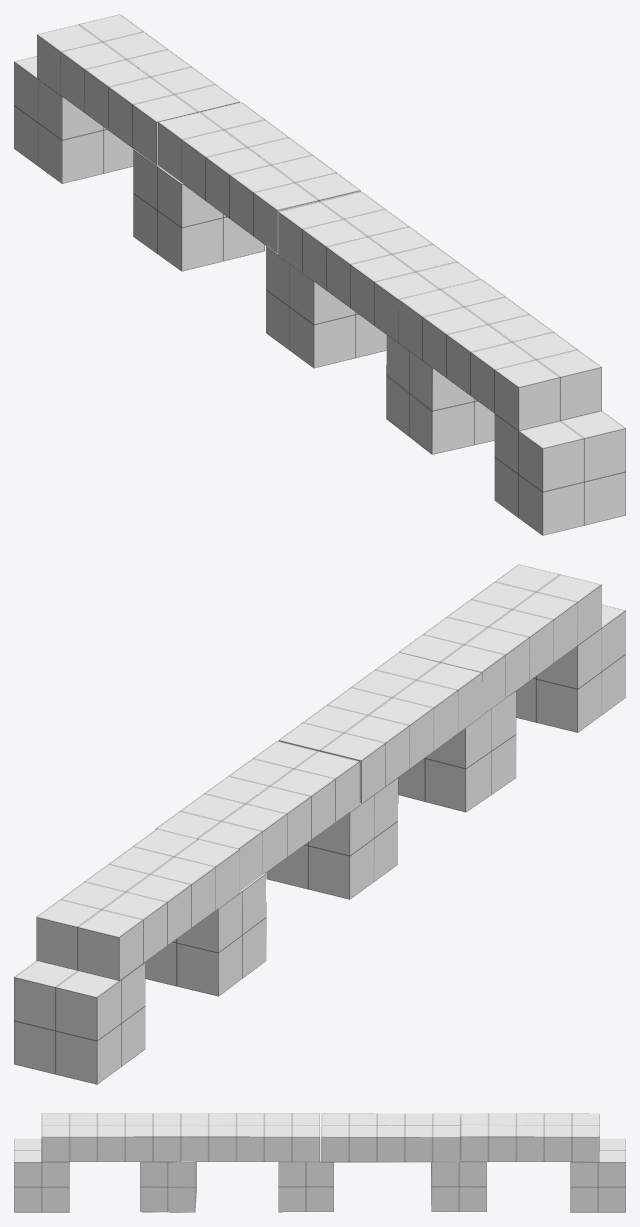
3 views of the same model, one above another, from view 1: azimuth 30°, elevation 25°; view 2: azimuth 150°, elevation 25°; view 3: azimuth 270°, elevation 25° (orthographic). The views are drawn at different scales.
Visible parts, largest first — view 1: GridPlank_0:3, GridPlank_0, GridPlank_0:1, GridPlank_0:2, Plane/BasicEnvironment/StartCube-1, GridCube_0:2, Plane/BasicEnvironment/StartCube-2, GridCube_0, GridCube_0:1; view 2: GridPlank_0:1, GridPlank_0:2, GridPlank_0:3, GridPlank_0, Plane/BasicEnvironment/StartCube-2, GridCube_0, GridCube_0:2, Plane/BasicEnvironment/StartCube-1, GridCube_0:1; view 3: GridPlank_0, GridPlank_0:1, GridPlank_0:3, GridPlank_0:2, Plane/BasicEnvironment/StartCube-1, Plane/BasicEnvironment/StartCube-2, GridCube_0:1, GridCube_0, GridCube_0:2.
Part boxes in pixels (<box>): GridPlank_0:3: <box>398,279,601,430</box>; GridPlank_0: <box>158,102,360,253</box>; GridPlank_0:1: <box>37,14,239,165</box>; GridPlank_0:2: <box>278,191,480,343</box>; Plane/BasicEnvironment/StartCube-1: <box>494,411,625,535</box>; GridCube_0:2: <box>133,149,264,271</box>; Plane/BasicEnvironment/StartCube-2: <box>14,56,133,183</box>; GridCube_0: <box>266,246,386,368</box>; GridCube_0:1: <box>386,335,494,454</box>; GridPlank_0:1: <box>36,829,239,980</box>; GridPlank_0:2: <box>278,652,482,803</box>; GridPlank_0:3: <box>399,564,601,715</box>; GridPlank_0: <box>155,741,359,890</box>; Plane/BasicEnvironment/StartCube-2: <box>14,960,145,1084</box>; GridCube_0: <box>266,777,398,899</box>; GridCube_0:2: <box>145,873,266,996</box>; Plane/BasicEnvironment/StartCube-1: <box>516,604,625,732</box>; GridCube_0:1: <box>398,691,516,812</box>; GridPlank_0: <box>321,1113,460,1162</box>; GridPlank_0:1: <box>460,1113,599,1162</box>; GridPlank_0:3: <box>41,1113,180,1161</box>; GridPlank_0:2: <box>181,1113,319,1161</box>; Plane/BasicEnvironment/StartCube-1: <box>14,1138,69,1212</box>; Plane/BasicEnvironment/StartCube-2: <box>570,1138,625,1212</box>; GridCube_0:1: <box>140,1161,196,1212</box>; GridCube_0: <box>278,1138,333,1212</box>; GridCube_0:2: <box>431,1160,486,1211</box>.
Bounding box in the file's own units: 0.207 × 0.3008 × 2.2.
